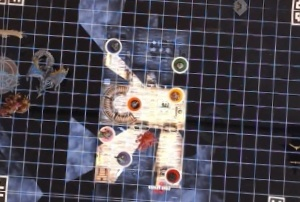blue: (104, 36, 123, 53)
green: (170, 54, 189, 73)
orange: (125, 95, 144, 112)
pink: (96, 123, 116, 143)
red: (164, 165, 182, 185)
violet: (115, 149, 134, 166)
yellow: (165, 84, 186, 102)
